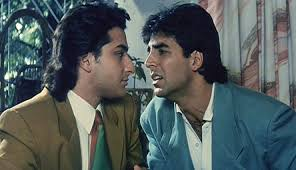Bad: (1, 3, 296, 168)
